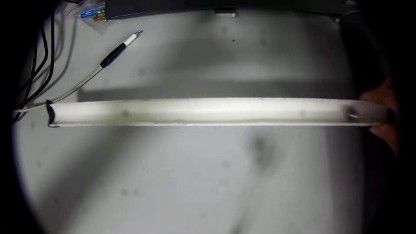gangzhu: (344, 105, 360, 121)
